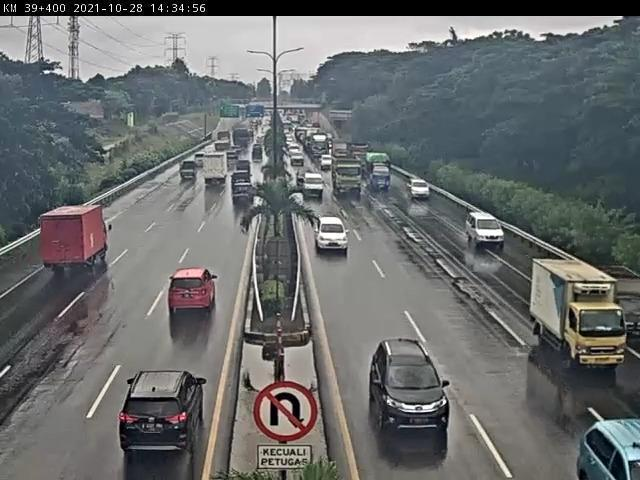car: (106, 365, 213, 465), (370, 338, 453, 432), (158, 257, 221, 339), (573, 410, 640, 480), (610, 270, 640, 350), (309, 214, 349, 261), (471, 208, 507, 248), (404, 172, 434, 200), (300, 169, 326, 198), (226, 188, 252, 215), (174, 162, 197, 185), (233, 178, 250, 189)
truck: (530, 258, 618, 374), (32, 198, 122, 288), (192, 151, 228, 199), (333, 160, 365, 199), (369, 157, 393, 191), (193, 317, 197, 334)
